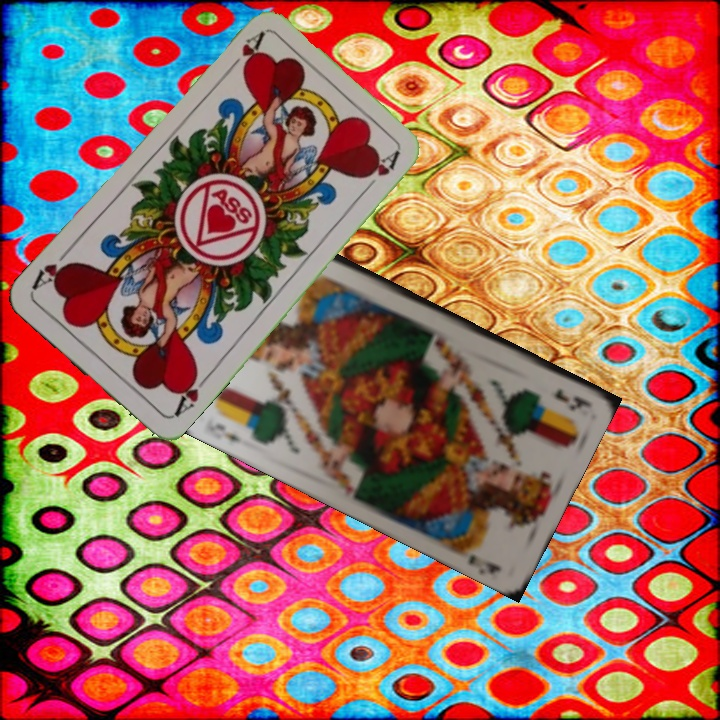EK: (203, 412, 246, 447), (549, 384, 588, 412)
HA: (168, 365, 212, 420), (221, 28, 267, 78)
